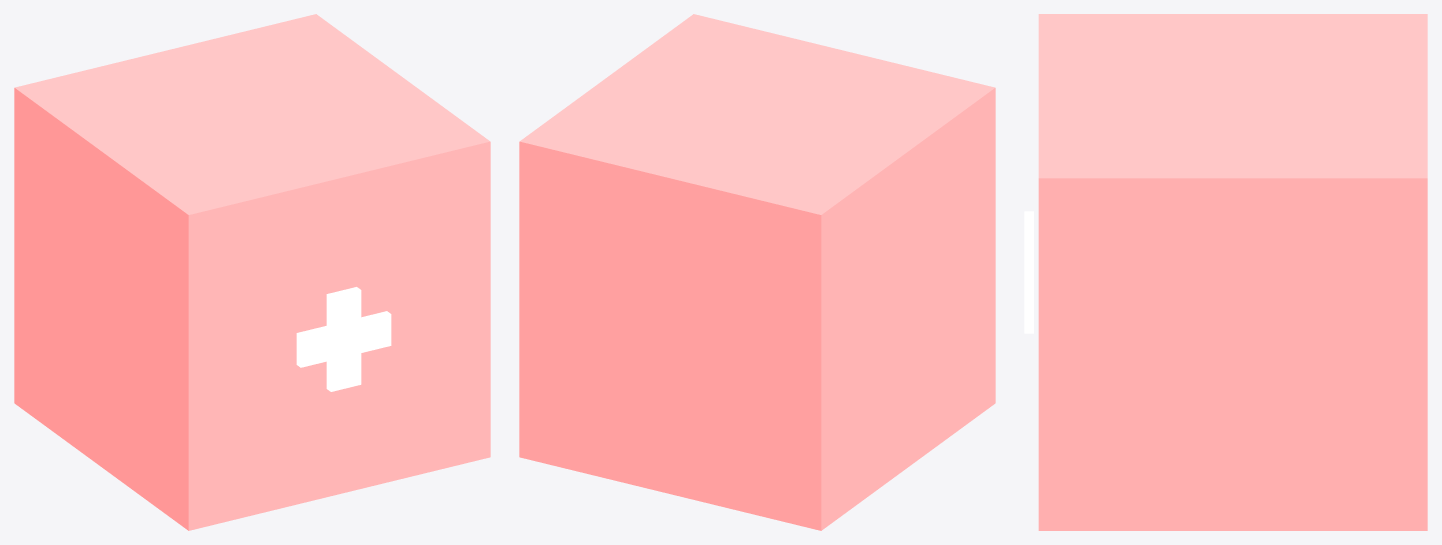
Rendered from SM_HealthPickup.glb.
3 renders of one model, left to right at view 1: azimuth 30°, elevation 25°; view 2: azimuth 150°, elevation 25°; view 3: azimuth 270°, elevation 25°, orthographic. The views are drawn at different scales.
Visible parts, largest first — view 1: SM_HealthPickup; view 2: SM_HealthPickup; view 3: SM_HealthPickup.
Part boxes in pixels (x1=…): SM_HealthPickup: x1=14, y1=14, x2=490, y2=530; SM_HealthPickup: x1=519, y1=14, x2=995, y2=530; SM_HealthPickup: x1=1024, y1=14, x2=1427, y2=530.
Size of the model in its own units: 0.4 by 0.4 by 0.415.
